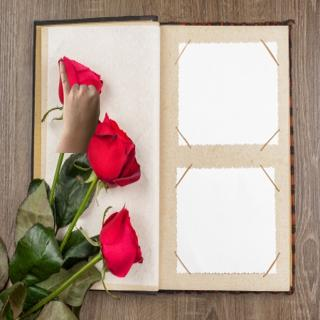FINE: (56, 59, 103, 138)
